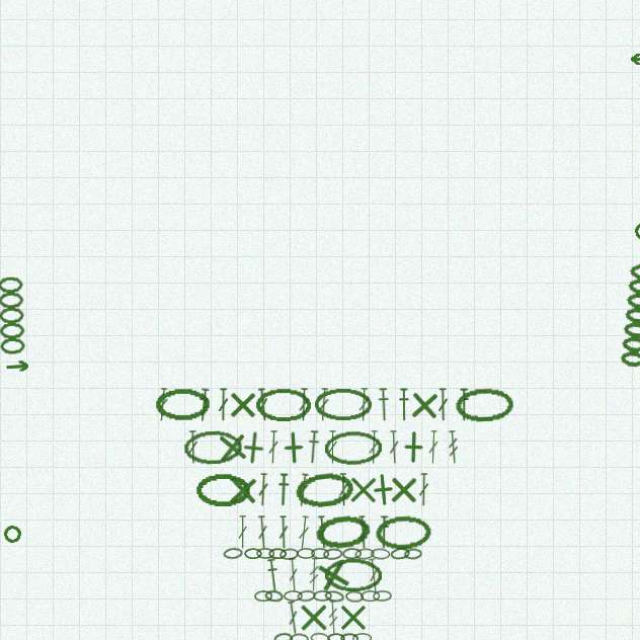chain: (290, 471, 350, 510), (310, 513, 368, 552), (181, 431, 240, 466), (449, 389, 507, 424), (370, 515, 427, 550), (320, 432, 377, 466), (310, 390, 368, 423), (320, 558, 377, 591), (193, 474, 248, 507), (153, 390, 208, 423), (252, 390, 307, 423), (320, 589, 340, 603), (220, 547, 240, 560), (385, 547, 405, 560), (261, 589, 280, 602), (293, 589, 312, 602), (350, 548, 370, 560), (276, 548, 295, 560), (319, 548, 338, 560), (366, 548, 385, 560), (341, 590, 359, 602), (399, 548, 417, 560), (280, 590, 299, 601), (309, 590, 328, 601), (356, 590, 375, 601), (368, 590, 387, 601), (338, 548, 357, 559), (251, 590, 269, 601), (241, 548, 259, 559), (253, 548, 271, 559), (265, 548, 283, 559), (293, 548, 311, 559), (307, 548, 325, 559), (306, 631, 326, 640), (270, 631, 289, 640), (348, 632, 367, 640), (287, 632, 305, 640), (323, 632, 341, 640), (336, 632, 354, 640)
double: (282, 600, 297, 634), (292, 474, 307, 508), (362, 558, 376, 592), (293, 516, 307, 550), (253, 390, 267, 423), (283, 558, 296, 591), (253, 516, 266, 549), (312, 516, 325, 549), (352, 516, 365, 549), (154, 390, 167, 423), (313, 390, 326, 423), (274, 516, 286, 549), (254, 474, 266, 507), (333, 474, 345, 507), (264, 432, 276, 465), (363, 432, 375, 465), (383, 432, 395, 465), (422, 432, 434, 465), (294, 390, 306, 423), (353, 390, 365, 423), (234, 516, 245, 549), (413, 474, 424, 507), (185, 432, 196, 465), (323, 432, 334, 465), (215, 390, 226, 423), (432, 390, 443, 423)
enseble_chain: (608, 266, 640, 374), (0, 280, 27, 359)
half_double: (193, 390, 209, 424), (262, 558, 277, 592), (302, 432, 317, 465), (273, 474, 287, 507), (372, 390, 386, 423), (373, 516, 385, 549), (393, 390, 405, 423), (452, 390, 464, 423)
noise: (2, 524, 23, 545), (624, 224, 640, 246), (5, 363, 30, 374), (620, 60, 640, 71)
single: (309, 555, 349, 595), (232, 431, 268, 467), (361, 473, 396, 508), (212, 431, 247, 466), (223, 474, 257, 508), (273, 432, 307, 466), (402, 390, 436, 424), (293, 600, 326, 633), (332, 600, 365, 633), (342, 474, 375, 507), (382, 474, 415, 507), (392, 432, 425, 465), (223, 390, 256, 423)
treble: (441, 432, 454, 465), (323, 600, 335, 633), (304, 558, 316, 591)
